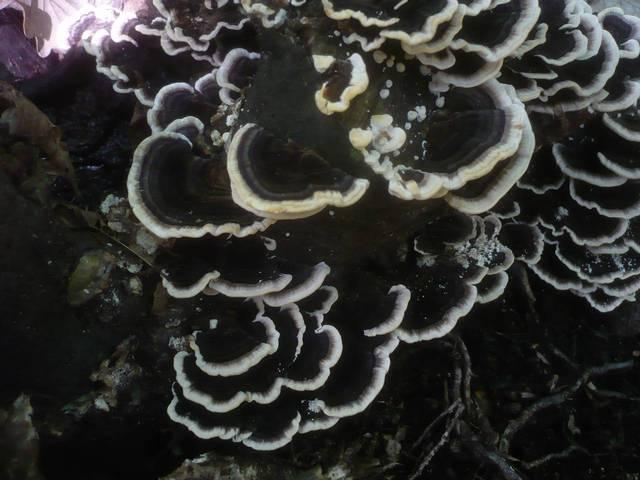Non-edible Mushroom: (16, 0, 640, 480)
